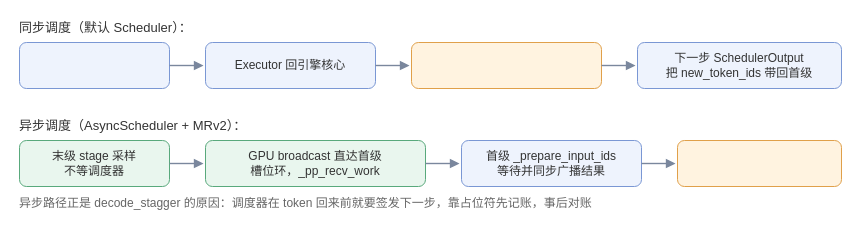
The diagram is 859 pixels wide and 230 high, and some of its shapes have lost their labels. The shapes that lost their labels are listed below. From the top down, each one's centre as x and y in pixels, then its label:
At pixel 94 65: "末级 stage 采样 ModelRunnerOutput".
At pixel 506 65: "调度器 update_from_output 记下每个请求的新 token".
At pixel 759 163: "调度器只做对账 占位符 → 真 token".
